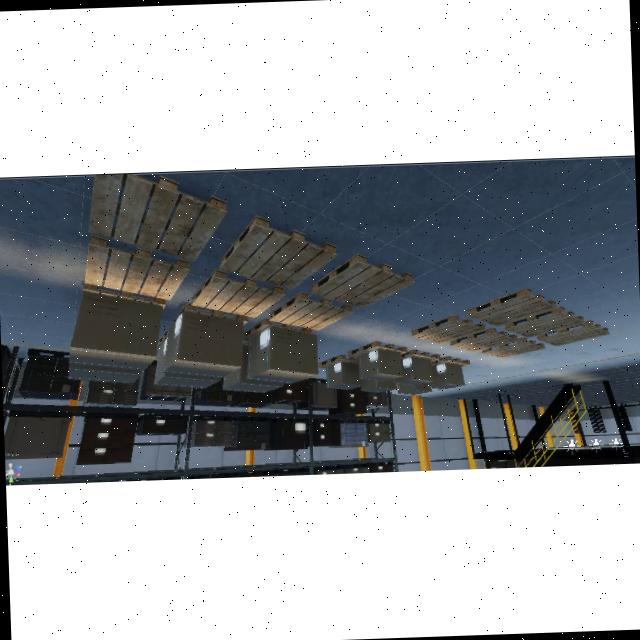wooden_pallet: (82, 283, 165, 308), (171, 302, 248, 324), (242, 319, 313, 340), (347, 340, 407, 357), (317, 354, 359, 368), (400, 349, 440, 362), (431, 355, 470, 367)
